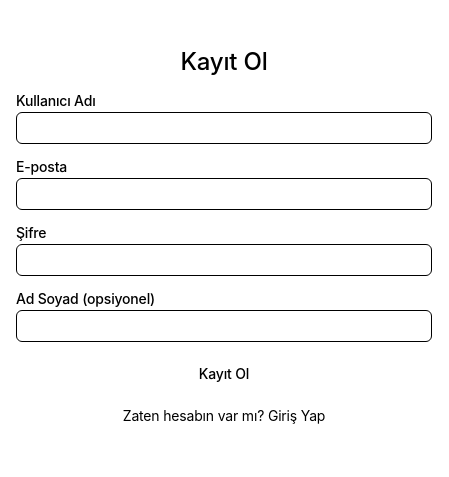
Test: RegisterPage › kısa kullanıcı adında hata göstermeli
Step 1. Type "ab" into the field labelled "Kullanıcı Adı" → (224, 128), box x1=16 y1=112 x2=432 y2=144
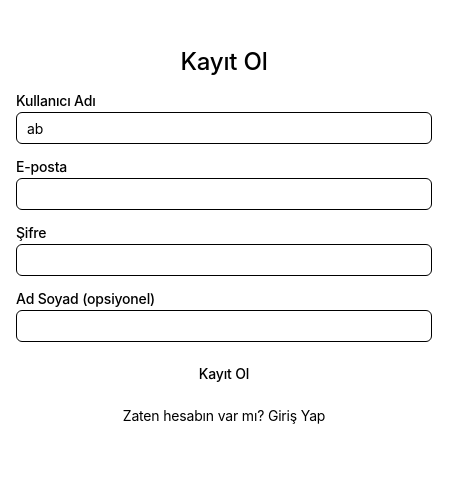
Step 2. Click the button "Kayıt Ol" → (224, 374), box x1=16 y1=358 x2=432 y2=390
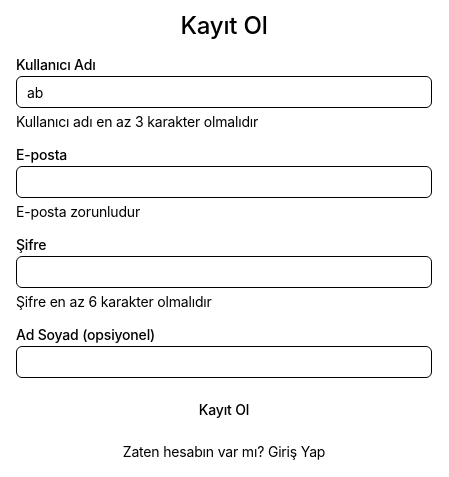
Expected: the text "Kullanıcı adı en az 3 karakter olmalıdır" is shown, x1=16 y1=113 x2=258 y2=130
